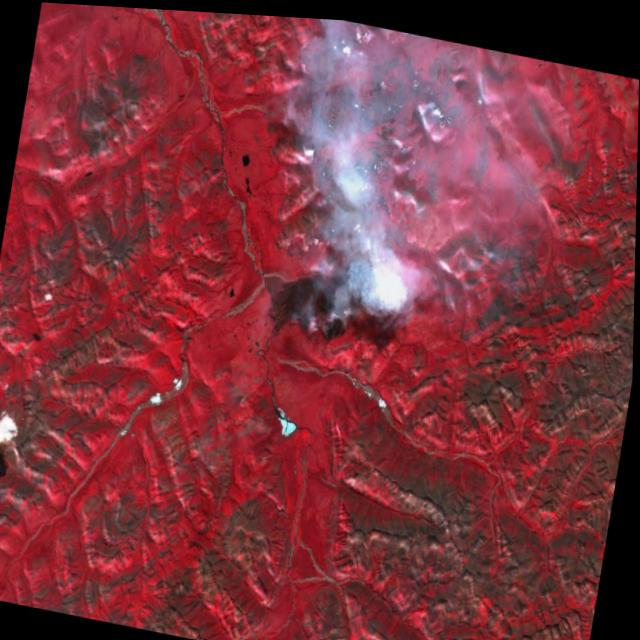fire: (308, 236, 396, 353)
